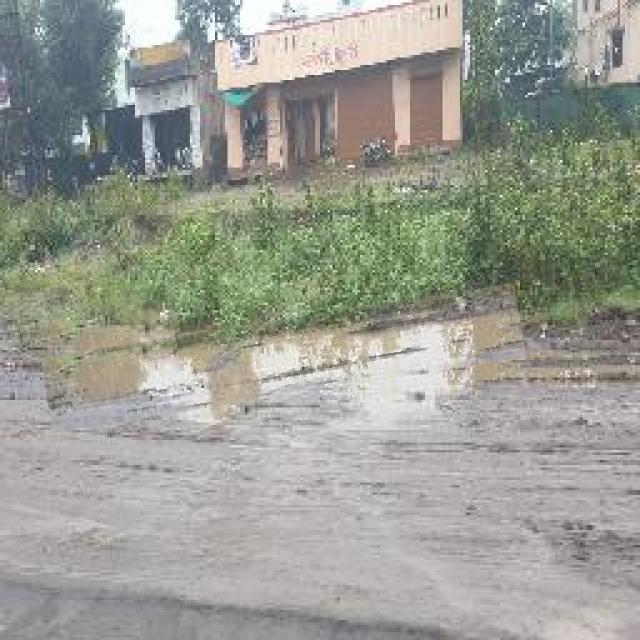puddle: (43, 302, 525, 416)
